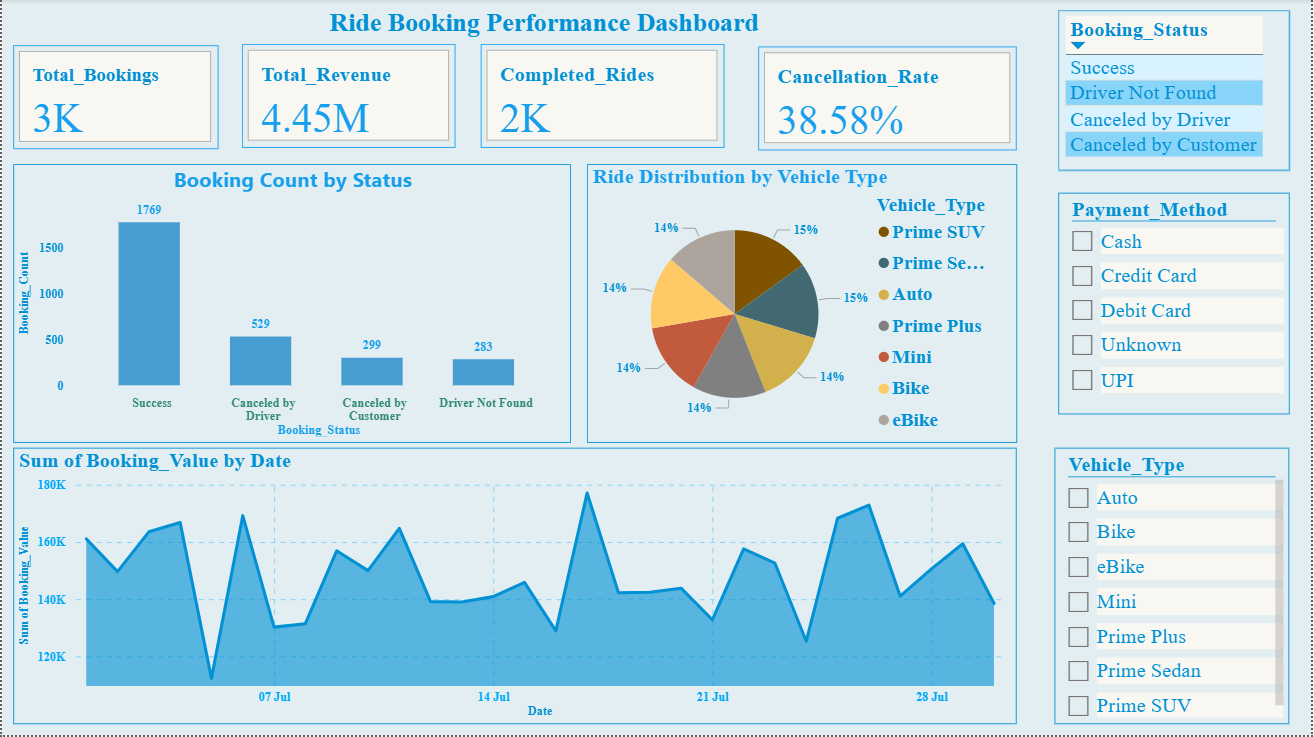

What the dashboard file says about the page in this screenshot:
{"tool":"powerbi","page":{"name":"Page 1","canvas":[1280,720],"ordinal":0},"visuals":[{"type":"cardVisual","fields":{"Data":["bookings_july.Total_Revenue"]},"box":[234.8,44,209.1,101.5],"z":1000},{"type":"cardVisual","fields":{"Data":["bookings_july.Completed_Rides"]},"box":[468.3,44,238.5,101.5],"z":2000},{"type":"cardVisual","fields":{"Data":["bookings_july.Cancellation_Rate"]},"box":[739.8,46.5,253.1,101.5],"z":3000},{"type":"columnChart","title":"Booking Count by Status","fields":{"Category":["bookings_july.Booking_Status"],"Y":["bookings_july.Booking_Count"]},"box":[11,161.4,545.4,272.7],"z":4000},{"type":"pieChart","title":"Ride Distribution by Vehicle Type","fields":{"Category":["bookings_july.Vehicle_Type"],"Y":["CountNonNull(bookings_july.Customer_ID)"]},"box":[572.3,161.4,420.7,272.7],"z":5000},{"type":"lineChart","fields":{"Category":["bookings_july.Date"],"Y":["Sum(bookings_july.Booking_Value)"]},"box":[11,439,981.9,270.2],"z":6000},{"type":"tableEx","fields":{"Values":["bookings_july.Booking_Status"]},"box":[1033.3,11,226.2,156.5],"z":7000},{"type":"slicer","fields":{"Values":["bookings_july.Vehicle_Type"]},"box":[1029.6,439,229.9,270.2],"z":8000},{"type":"slicer","fields":{"Values":["bookings_july.Payment_Method"]},"box":[1033.3,189.5,226.2,216.4],"z":9000},{"type":"cardVisual","fields":{"Data":["bookings_july.Total_Bookings"]},"box":[11,45.2,200.5,101.5],"z":9001},{"type":"textbox","title":"Ride Booking Performance Dashboard","box":[316,8,445.1,33],"z":9002}]}

Visuals, with their boxes in screenshot pixels (x1, y1, x2, y2), scaled from the page's 1280x720 canvas onto the 1314x737 screenshot:
cardVisual - bookings_july.Total_Revenue: x1=241 y1=45 x2=456 y2=149
cardVisual - bookings_july.Completed_Rides: x1=481 y1=45 x2=726 y2=149
cardVisual - bookings_july.Cancellation_Rate: x1=759 y1=48 x2=1019 y2=151
"Booking Count by Status" columnChart: x1=11 y1=165 x2=571 y2=444
"Ride Distribution by Vehicle Type" pieChart: x1=588 y1=165 x2=1019 y2=444
lineChart - bookings_july.Date x Sum(bookings_july.Booking_Value): x1=11 y1=449 x2=1019 y2=726
tableEx - bookings_july.Booking_Status: x1=1061 y1=11 x2=1293 y2=171
slicer - bookings_july.Vehicle_Type: x1=1057 y1=449 x2=1293 y2=726
slicer - bookings_july.Payment_Method: x1=1061 y1=194 x2=1293 y2=415
cardVisual - bookings_july.Total_Bookings: x1=11 y1=46 x2=217 y2=150
"Ride Booking Performance Dashboard" textbox: x1=324 y1=8 x2=781 y2=42
